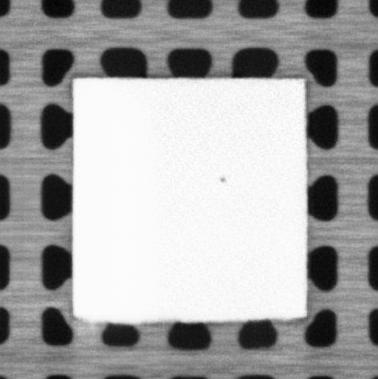DIE_INK: (218, 174, 228, 183)
